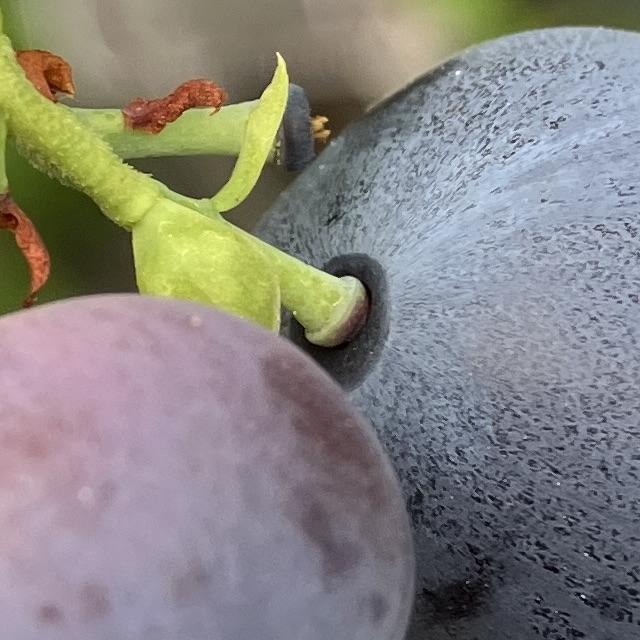Blueberries: (239, 18, 640, 640)
